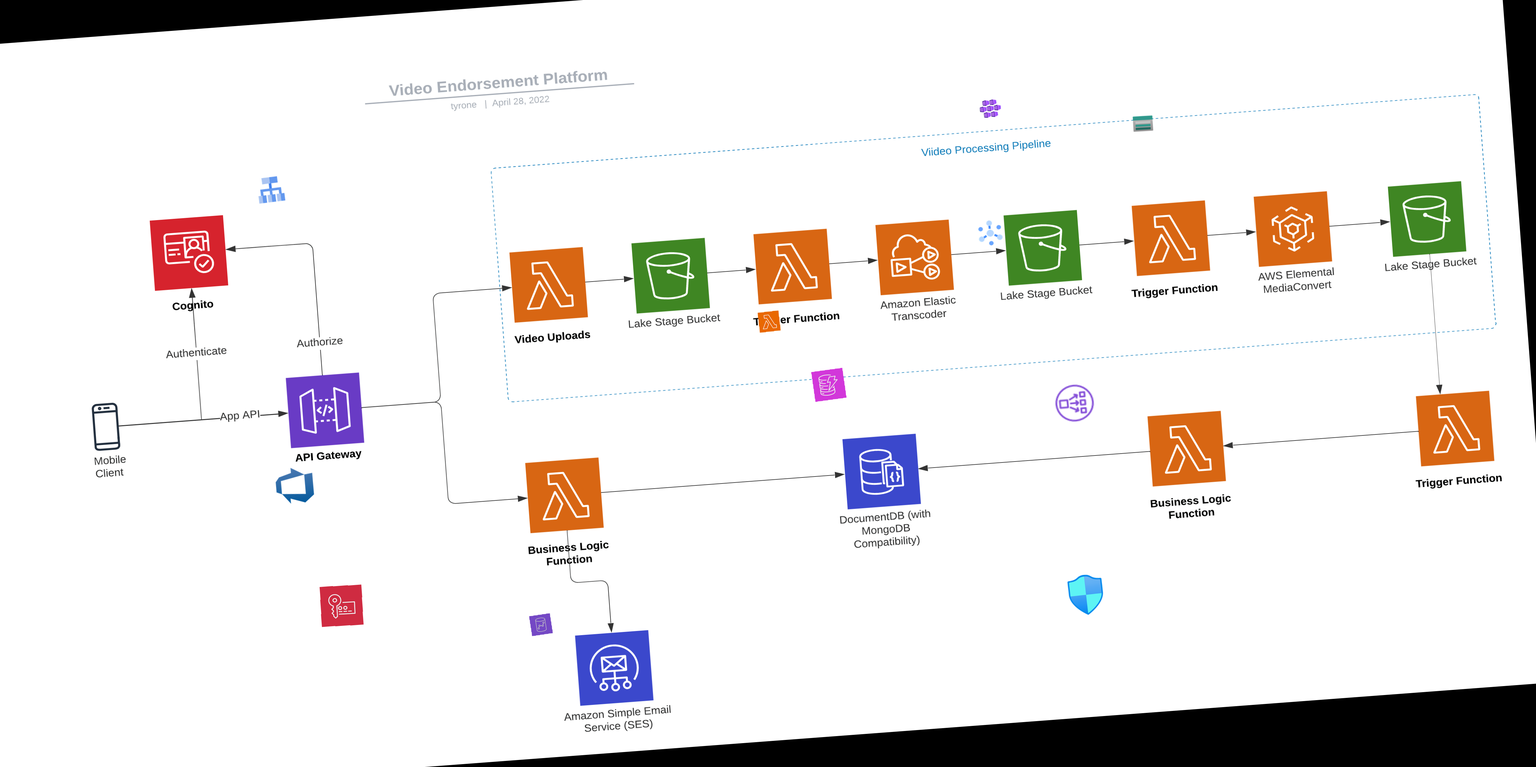aws_amazon_dynamodb: (811, 368, 847, 402)
aws_amazon_redshift: (528, 613, 553, 636)
aws_elastic_load_balancing_network_load_balancer: (1052, 381, 1097, 425)
aws_key_management_service: (318, 584, 364, 628)
aws_lambda: (757, 310, 781, 333)
azure_devops: (272, 463, 317, 507)
azure_kubernetes_services: (978, 97, 1002, 120)
azure_network_security_groups: (1063, 572, 1109, 617)
azure_storage_accounts: (1131, 112, 1154, 134)
gcp_cloud_load_balancing: (253, 172, 288, 207)
gcp_pubsub: (972, 216, 1008, 249)
